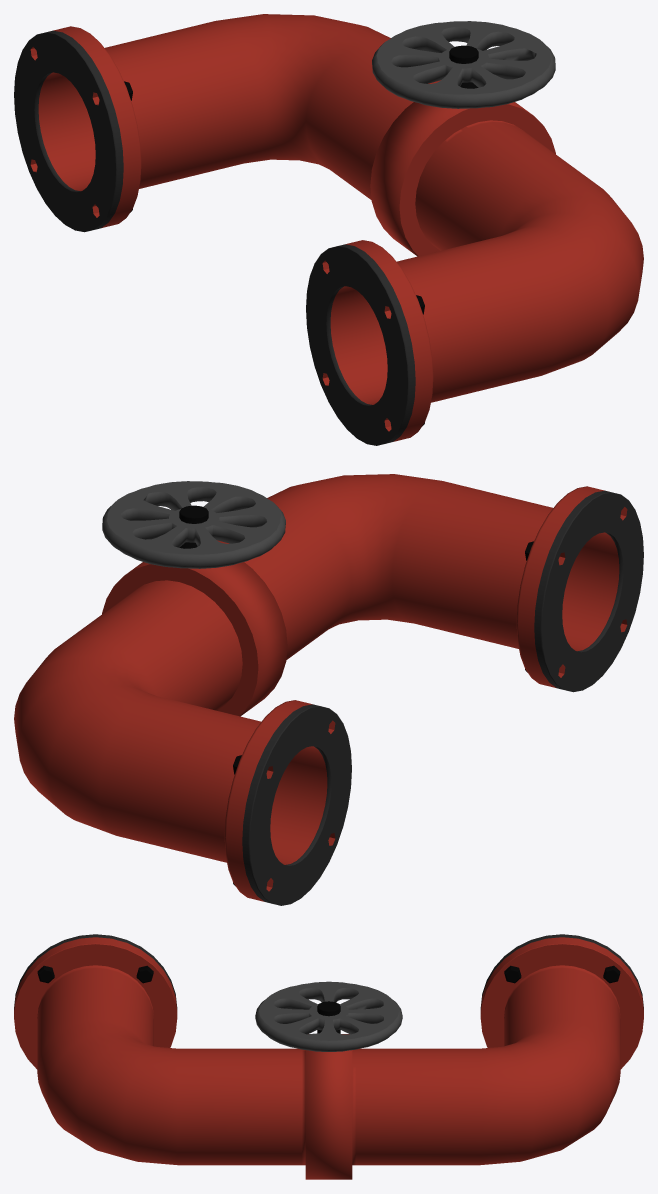
Rendered from Aroundwallwithwheel.fbx.
The picture shows the model from 3 angles, top to bottom: view 1: azimuth 30°, elevation 25°; view 2: azimuth 150°, elevation 25°; view 3: azimuth 270°, elevation 25°; orthographic projection. The views are drawn at different scales.
Parts seen in each view (by area): view 1: PipeswithValves:U-turn Pipe.000; view 2: PipeswithValves:U-turn Pipe.000; view 3: PipeswithValves:U-turn Pipe.000.
Part boxes in pixels (x1,y1,x2,y2): PipeswithValves:U-turn Pipe.000: [14, 14, 643, 445]; PipeswithValves:U-turn Pipe.000: [14, 474, 643, 905]; PipeswithValves:U-turn Pipe.000: [14, 934, 643, 1179].
Bounding box in the file's own units: 26.3 × 16.51 × 54.
